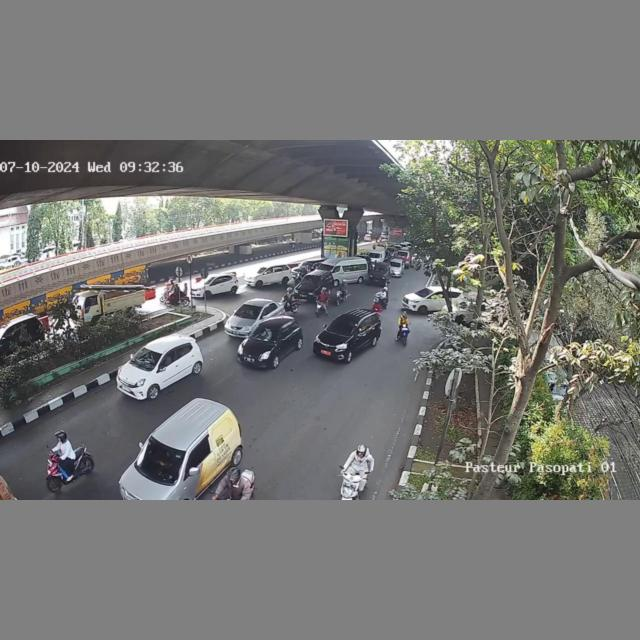windshield: (137, 437, 186, 481), (131, 347, 162, 366), (327, 317, 357, 335), (250, 327, 280, 343), (237, 305, 260, 318)
